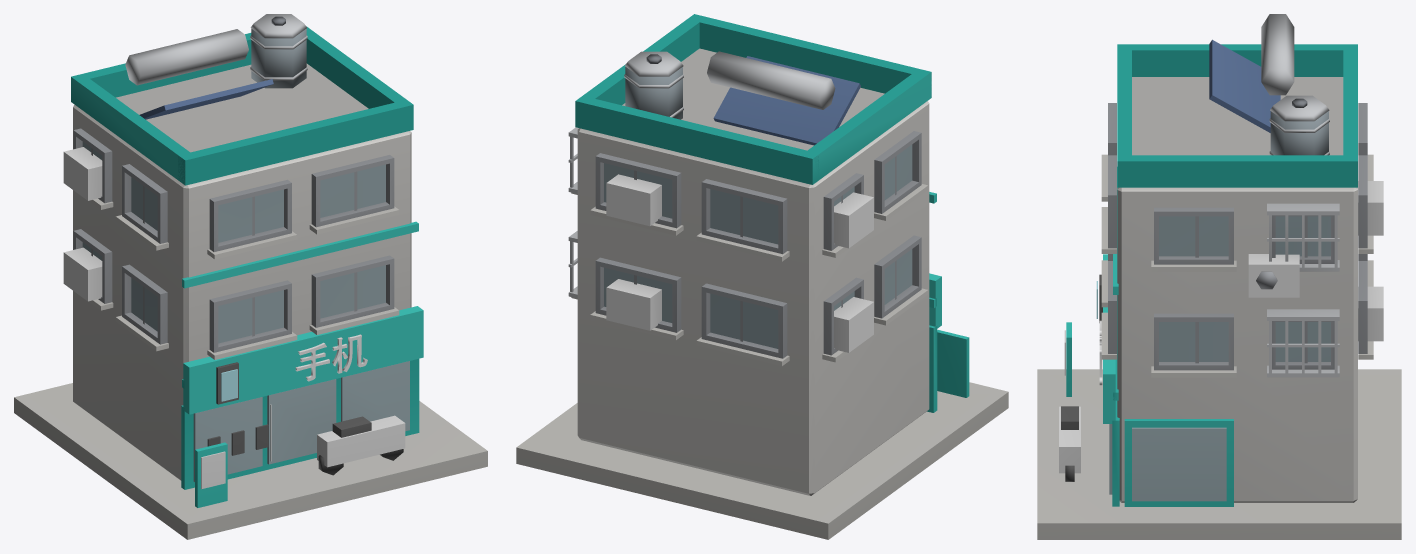
Rendered from phone-shop.glb.
The picture shows the model from 3 angles, left to right: view 1: azimuth 30°, elevation 25°; view 2: azimuth 150°, elevation 25°; view 3: azimuth 270°, elevation 25°; orthographic projection. The views are drawn at different scales.
Visible parts, largest first — view 1: phone-shop; view 2: phone-shop; view 3: phone-shop.
Boxes of the visible parts, x1,y1,x2,y2 form: phone-shop: [14, 14, 487, 539]; phone-shop: [516, 14, 1008, 539]; phone-shop: [1037, 14, 1401, 539].
Size of the model in its own units: 1 by 1.22 by 1.
